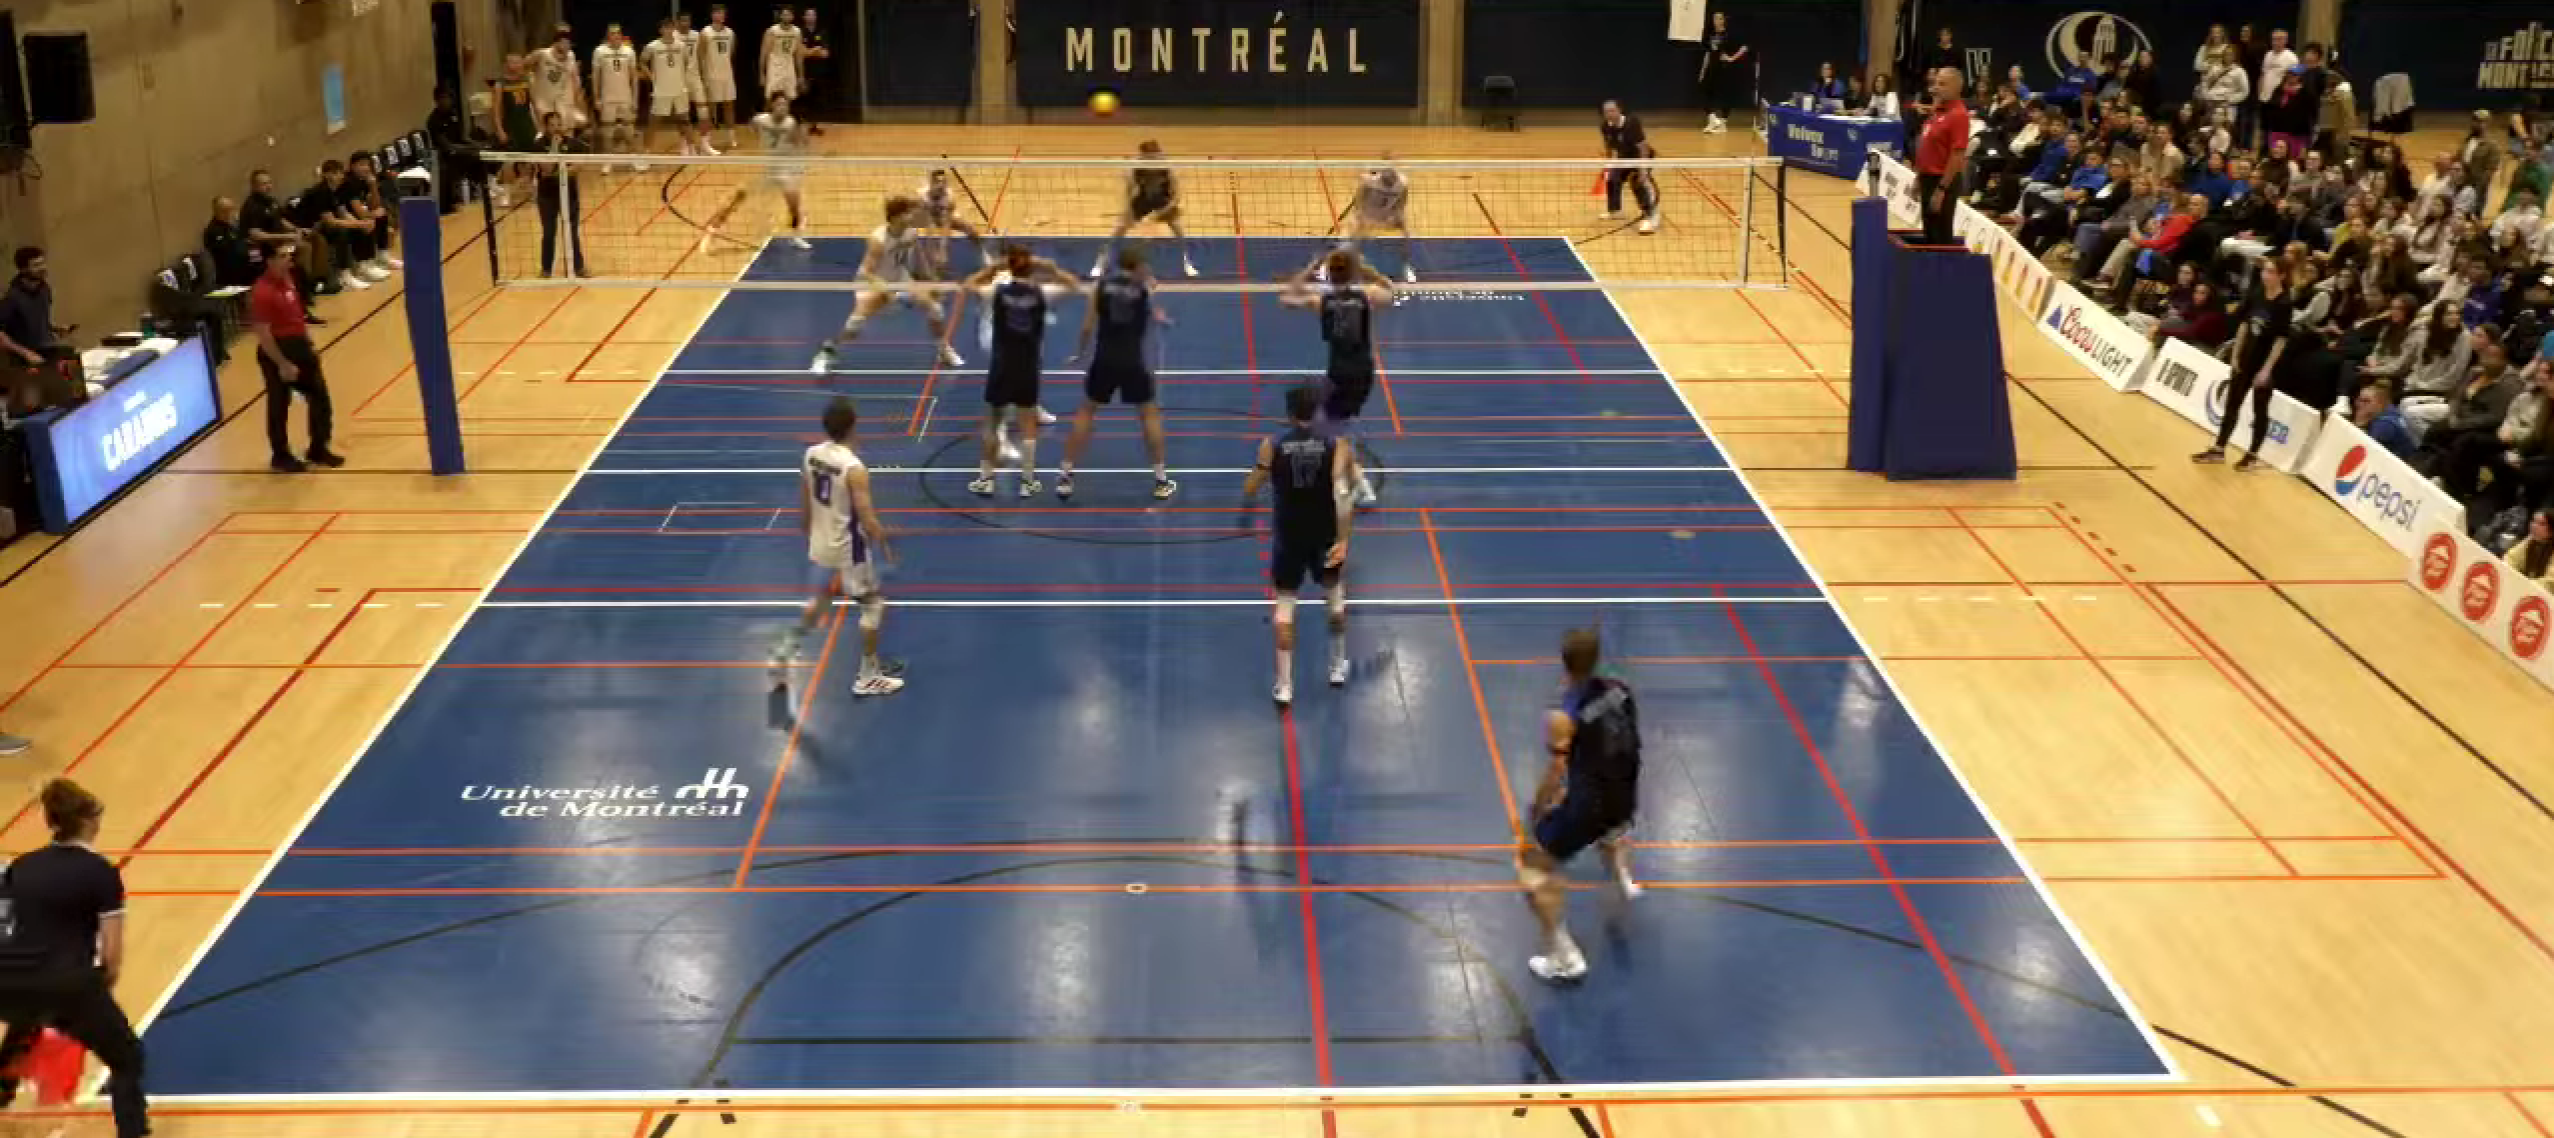Ball: (1083, 86, 1124, 119)
